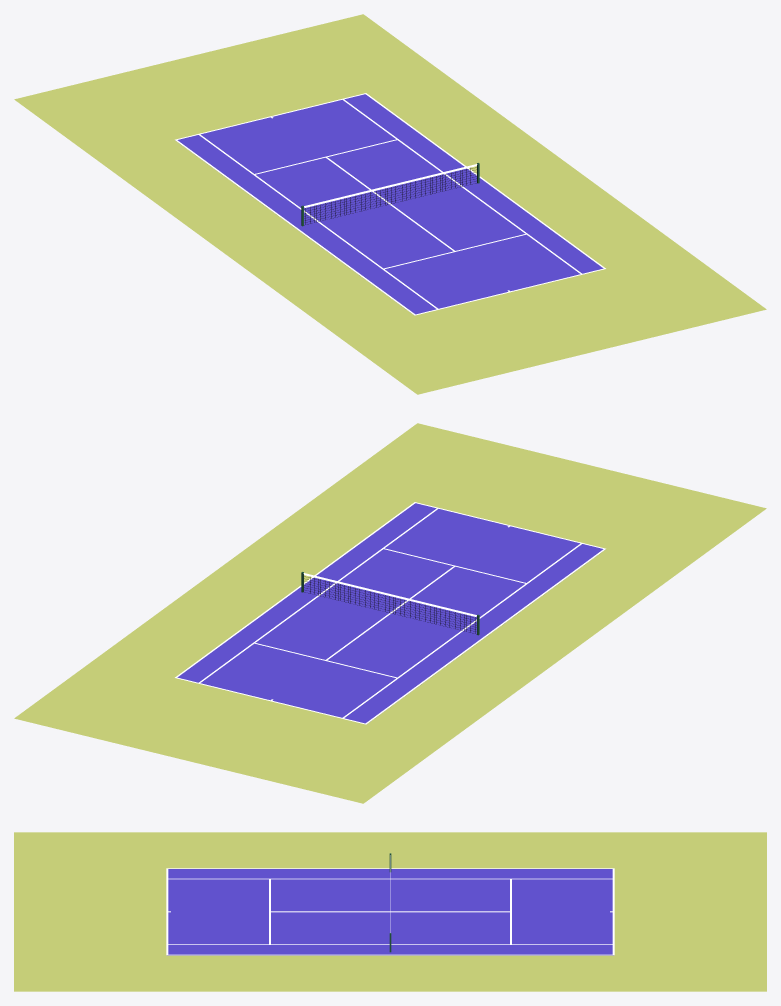
The model's file is tennis_court.gltf.
The picture shows the model from 3 angles, top to bottom: view 1: azimuth 30°, elevation 25°; view 2: azimuth 150°, elevation 25°; view 3: azimuth 270°, elevation 25°; orthographic projection. The views are drawn at different scales.
Parts seen in each view (by area): view 1: Plane.001, Plane, Plane.015; view 2: Plane.001, Plane, Plane.015; view 3: Plane.001, Plane, Plane.003, Plane.010, Plane.007, Plane.009, Plane.006.
Part boxes in pixels (x1=…): Plane.001: x1=14, y1=14, x2=766, y2=394; Plane: x1=177, y1=94, x2=603, y2=314; Plane.015: x1=304, y1=165, x2=477, y2=225; Plane.001: x1=14, y1=423, x2=766, y2=803; Plane: x1=177, y1=503, x2=603, y2=723; Plane.015: x1=303, y1=574, x2=476, y2=634; Plane.001: x1=14, y1=832, x2=766, y2=991; Plane: x1=167, y1=869, x2=613, y2=955; Plane.003: x1=167, y1=954, x2=612, y2=955; Plane.010: x1=167, y1=878, x2=613, y2=879; Plane.007: x1=270, y1=911, x2=510, y2=912; Plane.009: x1=167, y1=868, x2=612, y2=868; Plane.006: x1=168, y1=944, x2=612, y2=944.
Bounding box in the file's own units: 40 × 2.17 × 80.
